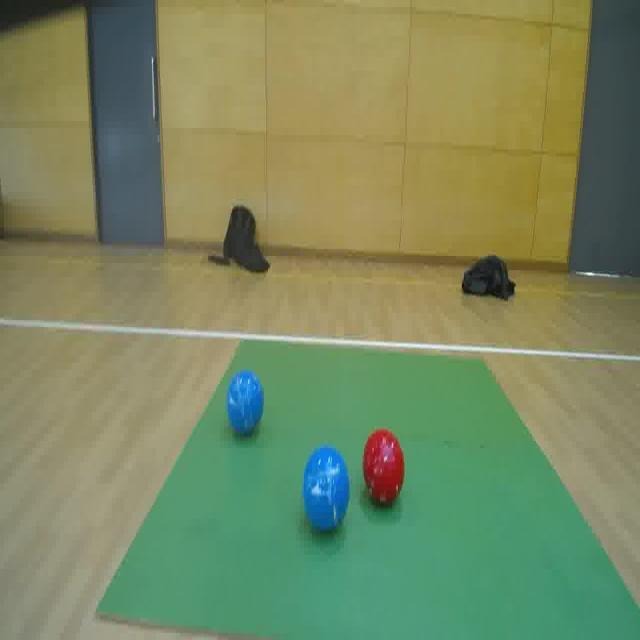blue_ball: (301, 445, 351, 532), (226, 367, 266, 440)
red_ball: (360, 422, 406, 512)
